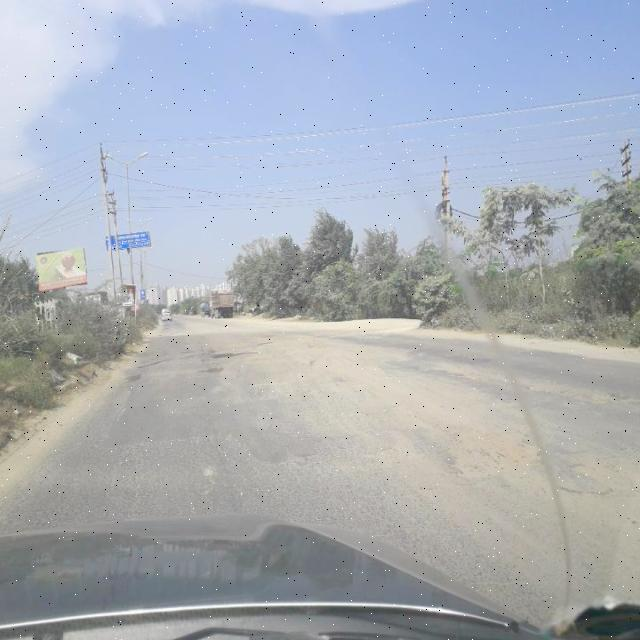D20: (8, 391, 452, 541)
D40: (418, 348, 640, 410), (436, 426, 540, 492), (297, 369, 401, 434), (562, 439, 638, 502)
